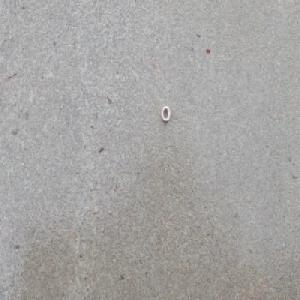Nut: (160, 106, 170, 123)
